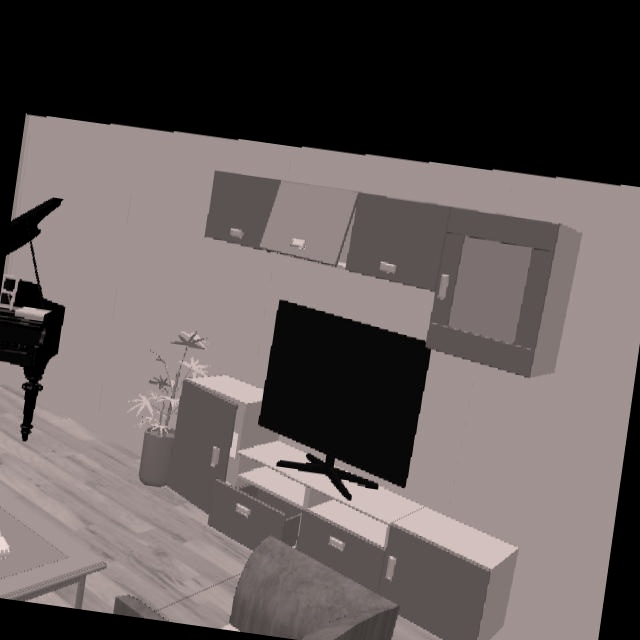cabinet: (167, 377, 518, 640), (208, 172, 567, 380)
monitor: (257, 302, 430, 491)
sofa: (221, 536, 399, 640), (114, 592, 169, 622)
table: (0, 487, 106, 600)
